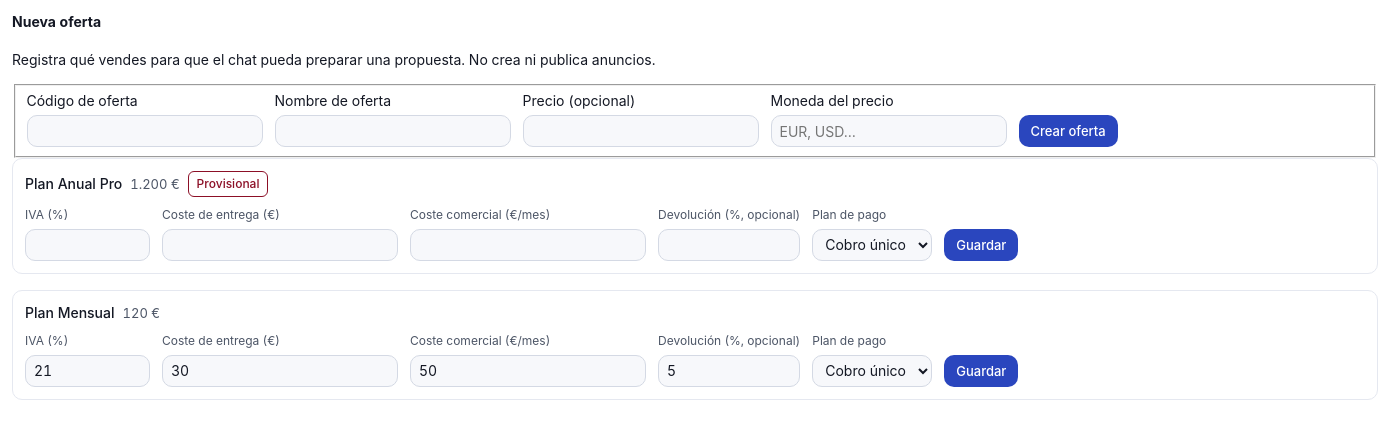
Scenario: OfferingsEconomicsTable › guardar una oferta provisional la quita del estado Provisional
The width and height of the screenshot is (1378, 439).
Expected: the text "Plan Anual Pro" is shown, [25,174,122,194]
In the number field labelled "IVA (%)" below "Plan Anual Pro": (88, 245) [25,229,150,261], type "21"
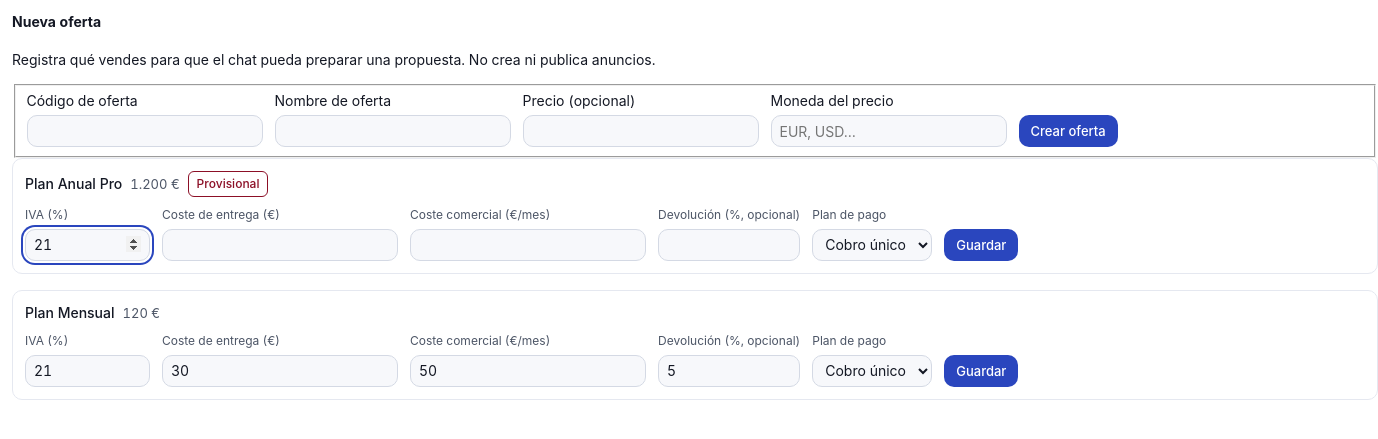
In the number field labelled "Coste de entrega (€)" below "Plan Anual Pro": (280, 245) [162,229,398,261], type "90"
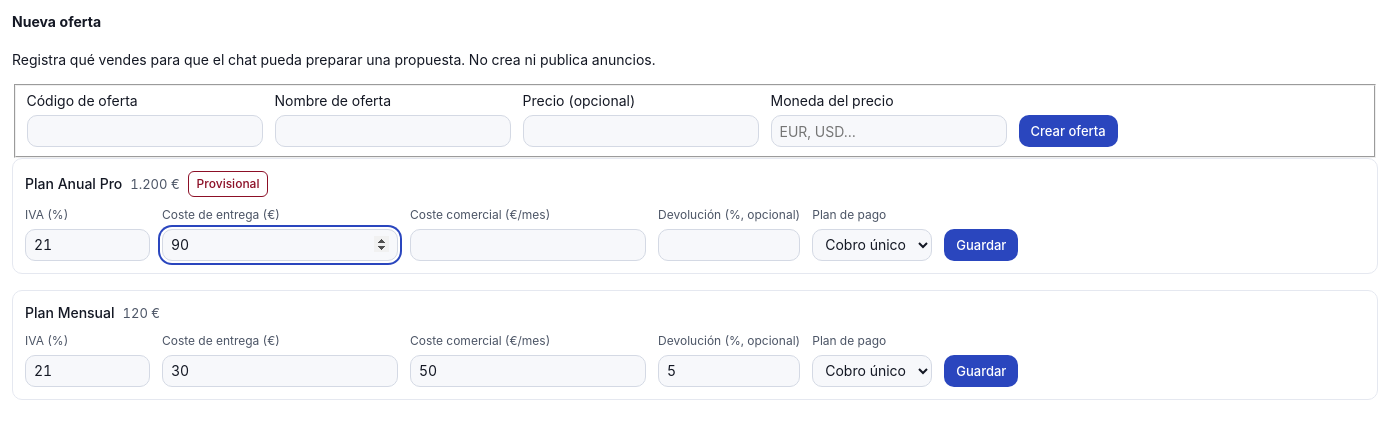
In the number field labelled "Coste comercial (€/mes)" below "1.200 €": (528, 245) [410,229,646,261], type "140"
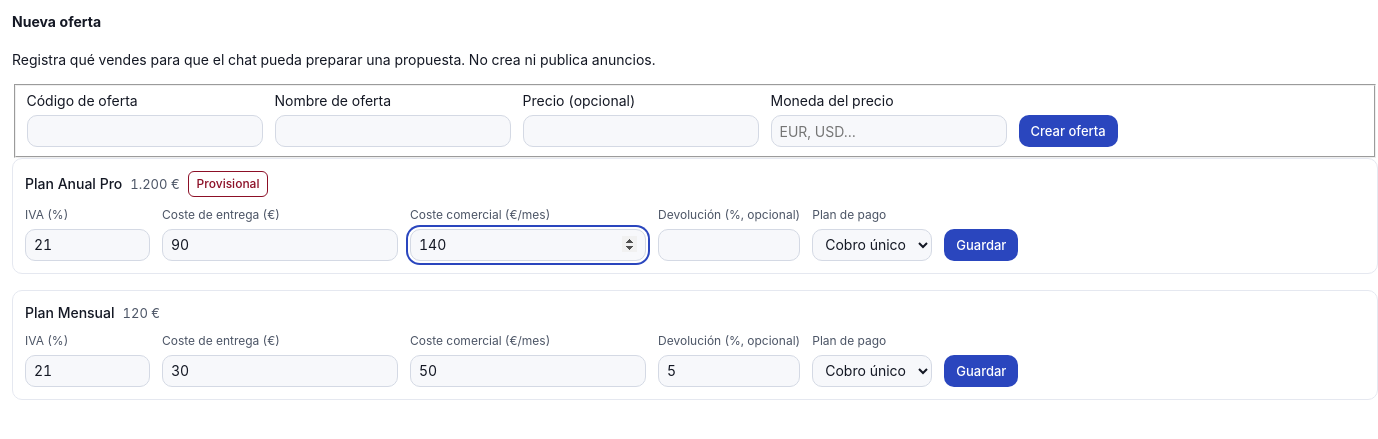
Click the button with aria-label "Guardar economía de Plan Anual Pro": click(981, 245) [944,229,1018,261]
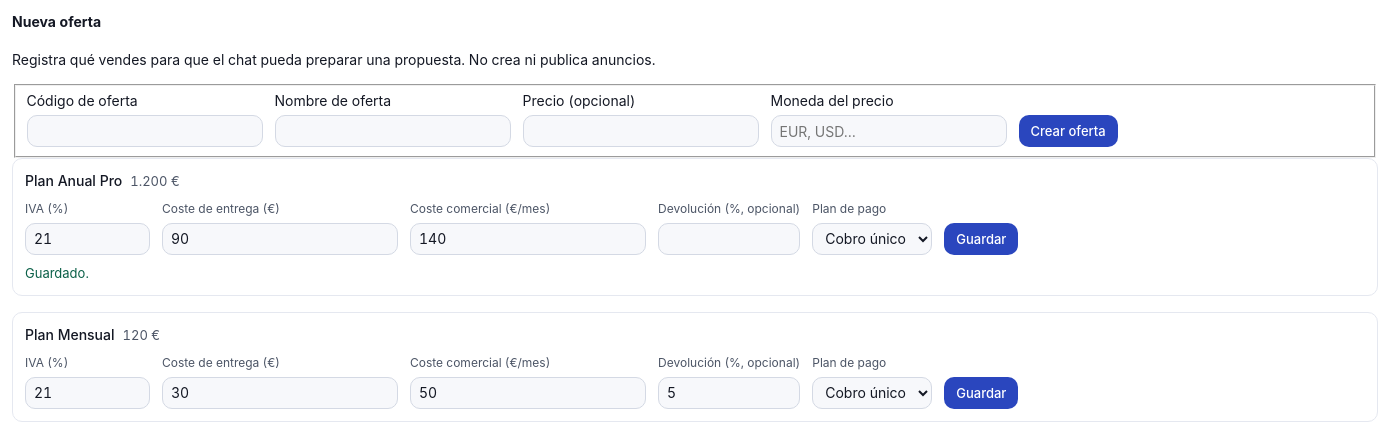
Result: the text "Guardado." is shown at [25,265,89,281]
